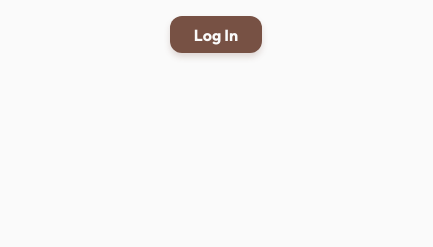
Test: <LoginForm /> › renderiza correctamente los inputs y el botón
The width and height of the screenshot is (433, 247).
What coordinates should you click on to do the following:
click the button "Log In"
I would click on:
 (216, 35)
Its box is left=170, top=16, right=262, bottom=53.
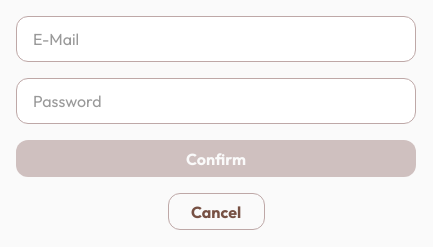
Result: the field with placeholder "E-Mail" is shown at left=16, top=16, right=416, bottom=62
Result: the password field with placeholder "Password" is shown at left=16, top=78, right=416, bottom=124
Result: the button "Confirm" is shown at left=16, top=140, right=416, bottom=177
